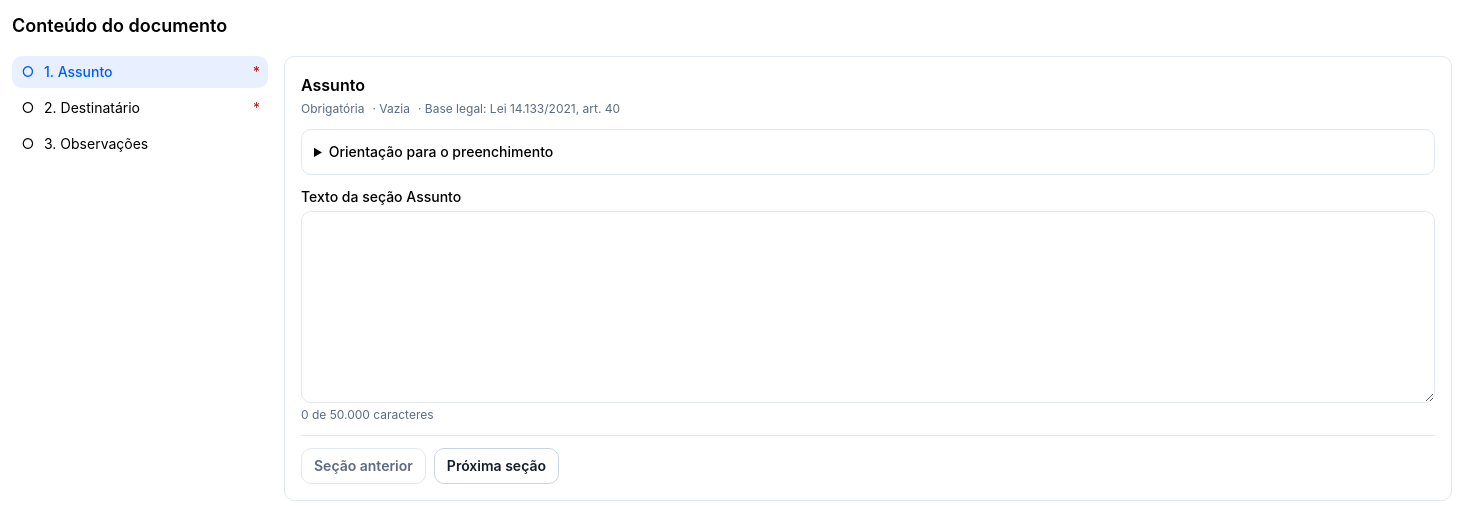
Test case: SCR-105 — editor do documento livre (US-063) › [Falha de banco] FA-01: 503 no autosave mantém o texto no editor e na contingência local
Type "Texto que não pode se perder" into the text box labelled "Texto da seção Assunto" at (868, 307), box [301,211,1435,403]
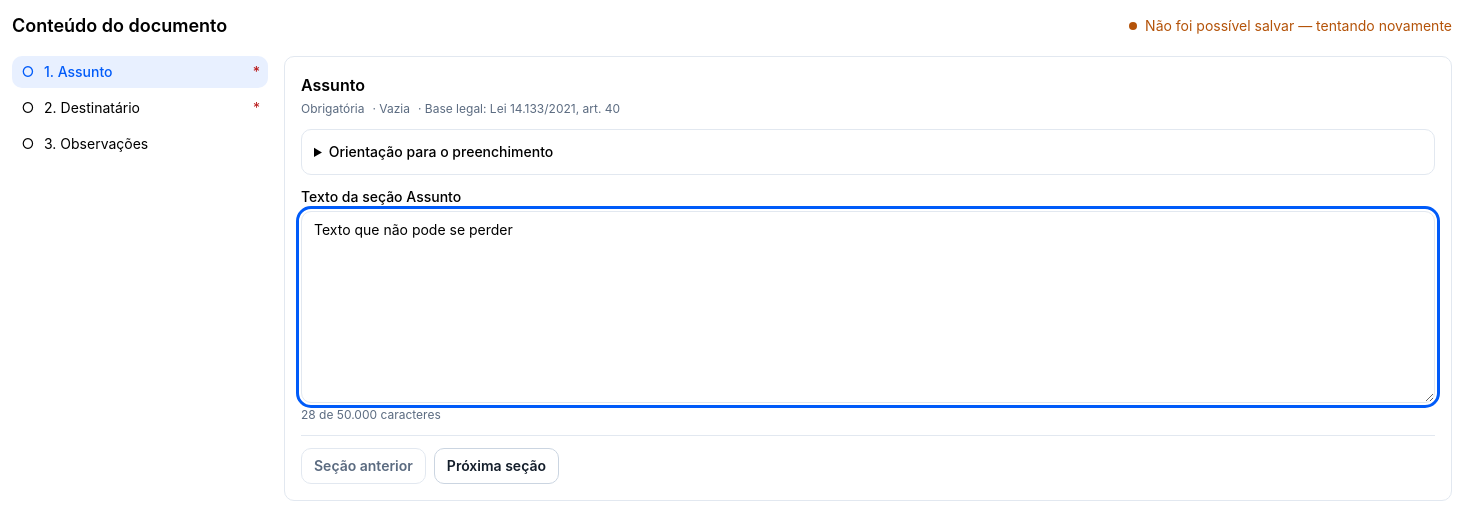
Expected: the text "Não foi possível salvar — tentando novamente" is shown, [1145,16,1452,36]
